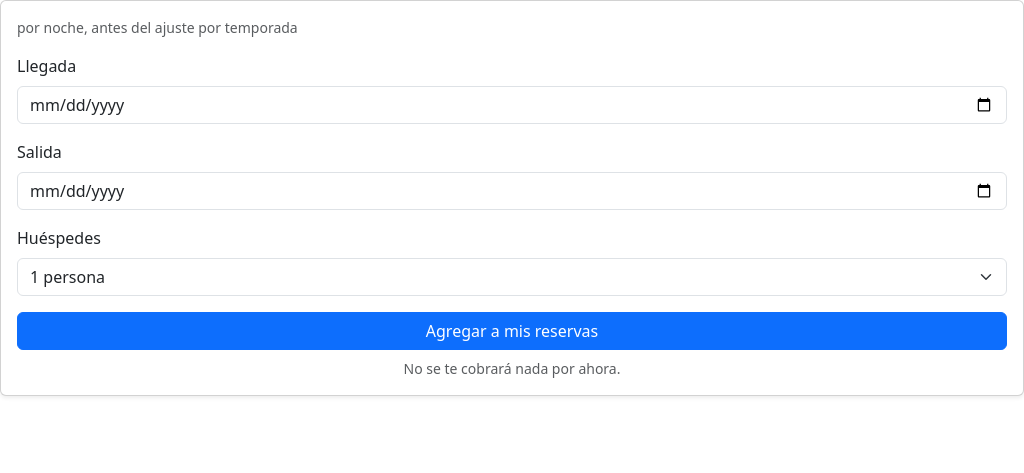
Test: PanelReserva › Muestra el error solo cuando se envía sin fechas, y no llama a onAgregar
This screenshot has width=1024, height=473.
Step 1. Click the button "Agregar a mis reservas" → (512, 331), box [17,312,1007,350]
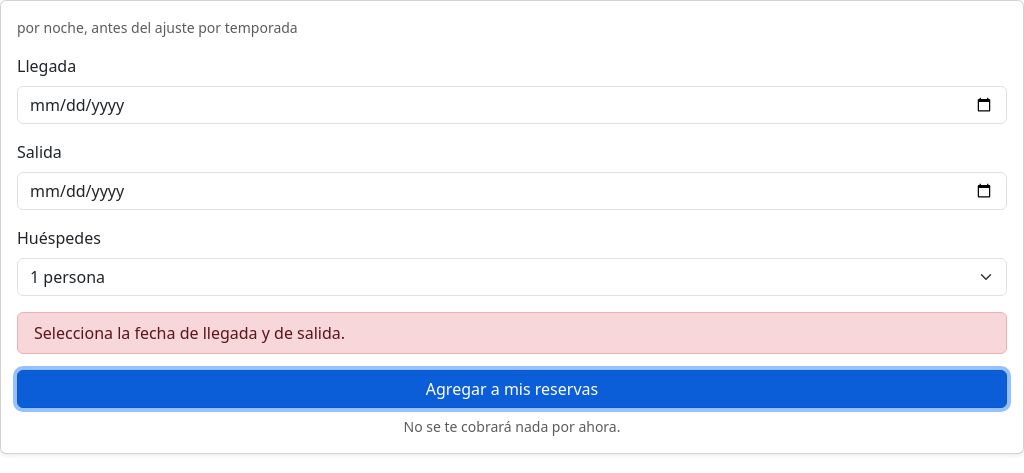
Expected: the message reads "Selecciona la fecha de llegada y de salida.", [34,322,345,344]
